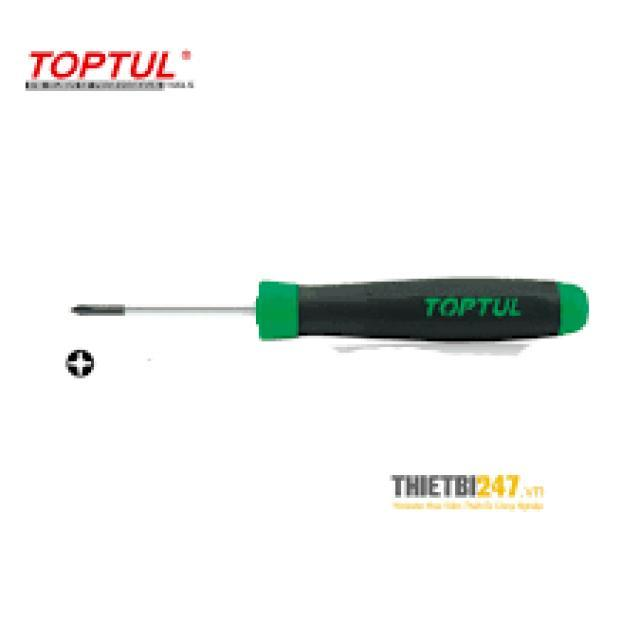screwdriver: (64, 270, 593, 344)
